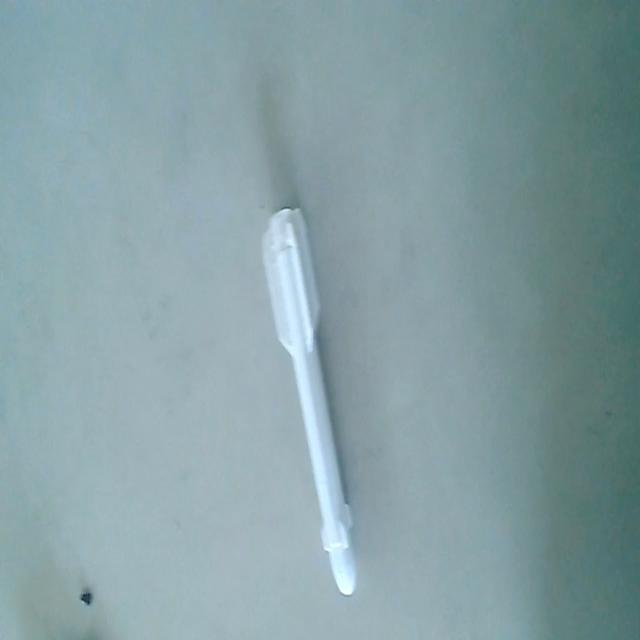Rocket: (260, 199, 358, 600)
